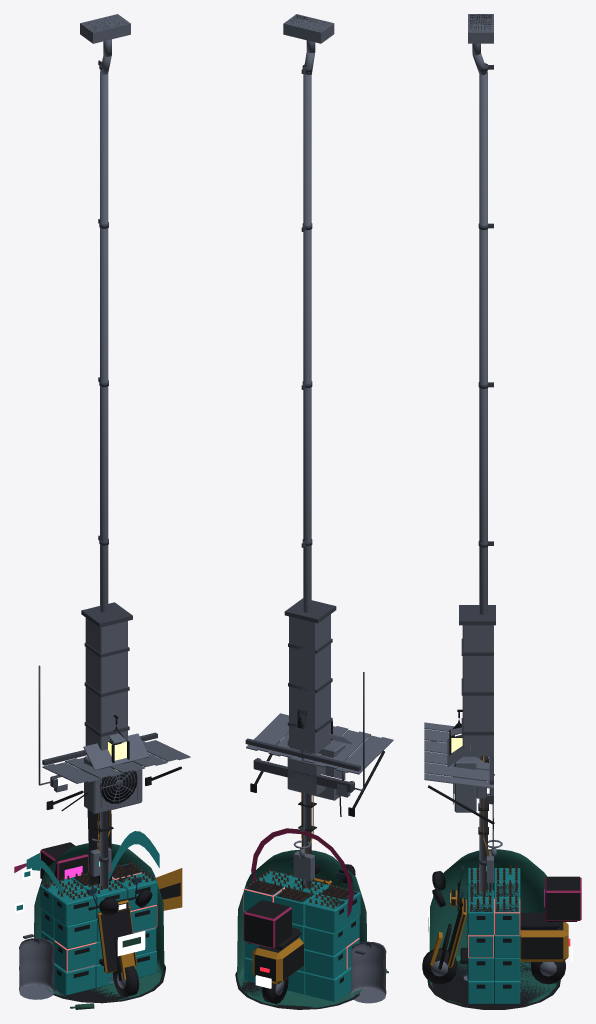
Rendered from room-detail-sceny-props.glb.
The picture shows the model from 3 angles, left to right: view 1: azimuth 30°, elevation 25°; view 2: azimuth 150°, elevation 25°; view 3: azimuth 270°, elevation 25°; orthographic projection.
Visible parts, largest first — view 1: rd-kb-crates, rd-kb-extract, rd-kb-downpipe, rd-kb-glass-bin, rd-kb-scooter, rd-kb-canopy, rd-kb-tag, rd-kb-batten, rd-kb-lantern; view 2: rd-kb-crates, rd-kb-extract, rd-kb-downpipe, rd-kb-scooter, rd-kb-glass-bin, rd-kb-canopy, rd-kb-batten, rd-kb-tag; view 3: rd-kb-downpipe, rd-kb-crates, rd-kb-scooter, rd-kb-glass-bin, rd-kb-extract, rd-kb-canopy.
Part boxes in pixels (x1,y1,x2,y2): rd-kb-crates: (19, 860, 157, 999); rd-kb-extract: (61, 602, 149, 885); rd-kb-downpipe: (80, 14, 130, 983); rd-kb-glass-bin: (34, 838, 165, 1009); rd-kb-scooter: (40, 842, 141, 997); rd-kb-canopy: (42, 732, 190, 809); rd-kb-tag: (14, 831, 182, 913); rd-kb-batten: (38, 665, 83, 787); rd-kb-lantern: (108, 715, 129, 773); rd-kb-crates: (243, 867, 386, 1003); rd-kb-extract: (284, 598, 352, 816); rd-kb-downpipe: (283, 14, 334, 888); rd-kb-scooter: (243, 861, 344, 1003); rd-kb-glass-bin: (235, 840, 388, 1009); rd-kb-canopy: (245, 713, 393, 816); rd-kb-batten: (253, 672, 364, 792); rd-kb-tag: (251, 828, 353, 917); rd-kb-downpipe: (463, 14, 493, 980); rd-kb-crates: (467, 865, 520, 1003); rd-kb-scooter: (422, 866, 581, 984); rd-kb-glass-bin: (427, 840, 560, 1009); rd-kb-extract: (447, 605, 495, 812); rd-kb-canopy: (424, 722, 494, 828).
Size of the model in its own units: 2.22 by 12.08 by 1.82.
Materials: 1 (1 with a texture image).
